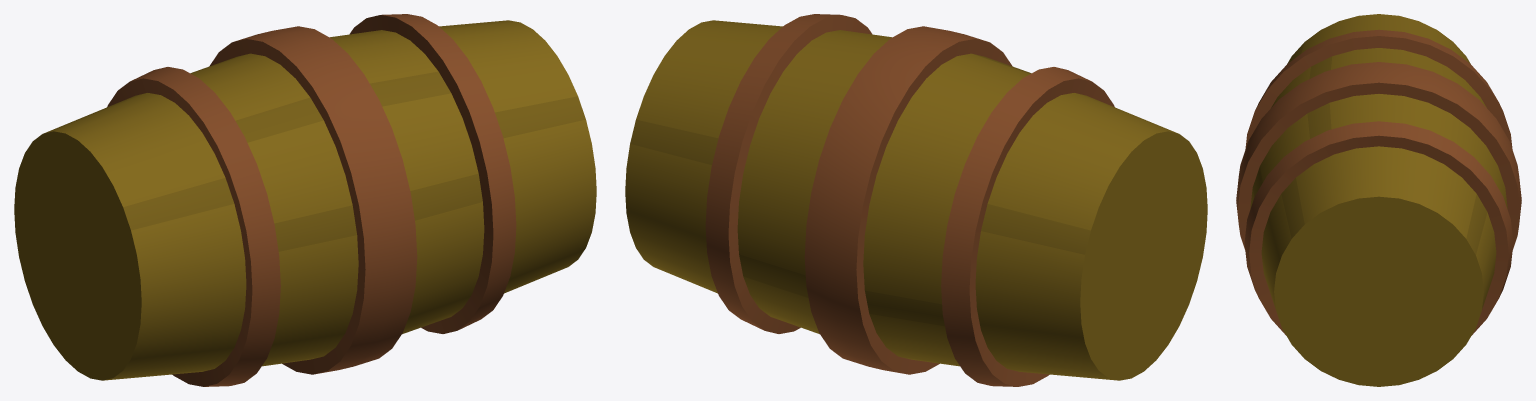
File: Barrel.fbx
The picture shows the model from 3 angles, left to right: view 1: azimuth 30°, elevation 25°; view 2: azimuth 150°, elevation 25°; view 3: azimuth 270°, elevation 25°; orthographic projection. The views are drawn at different scales.
Visible parts, largest first — view 1: Circle; view 2: Circle; view 3: Circle.
Part boxes in pixels (x1,y1,x2,y2): Circle: (14,14,596,386); Circle: (625,14,1207,386); Circle: (1236,14,1521,386).
Size of the model in its own units: 232 by 153 by 153.
